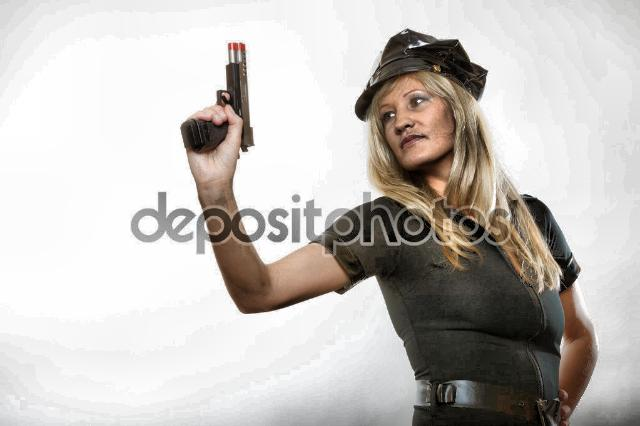pistol: (169, 34, 257, 158)
